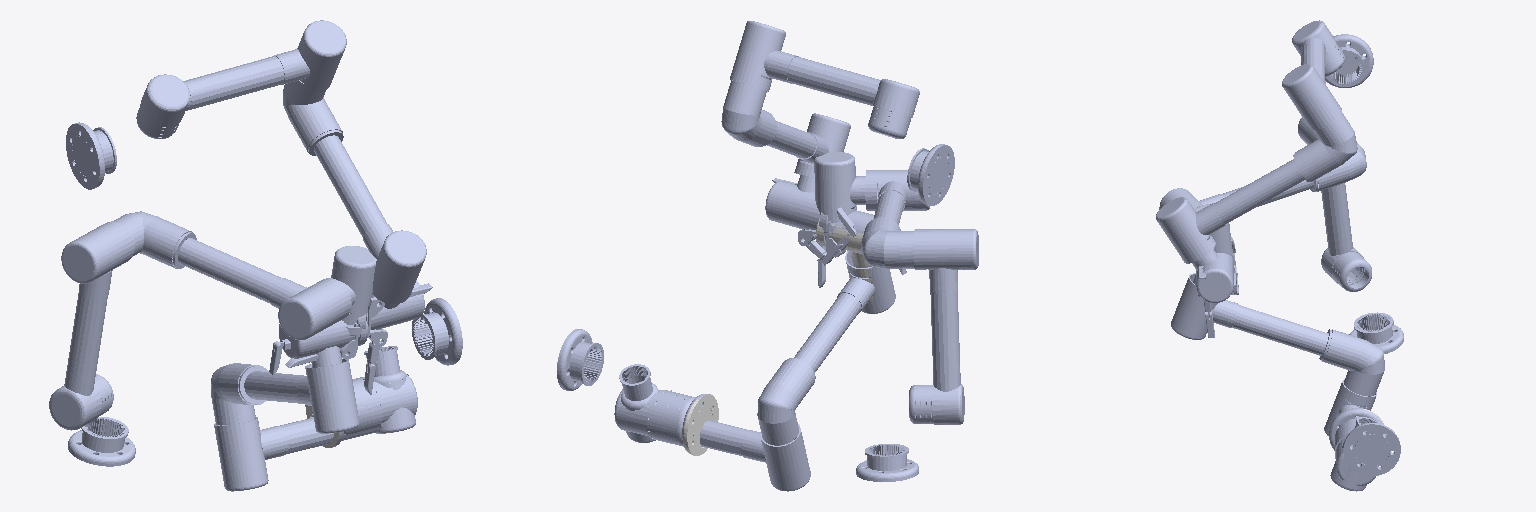
URDF robot description (UR5_Robotic_Arm):
<robot
  name="UR5_Robotic_Arm">
  <link
    name="Base_link">
    <inertial>
      <origin
        xyz="-0.270887268142801 -0.0738972155324684 -0.172493234263436"
        rpy="0 0 0" />
      <mass
        value="0.379348135746581" />
      <inertia
        ixx="2.39604793679125E-17"
        ixy="-6.49886930386399E-13"
        ixz="-9.96658512188979E-12"
        iyy="4.1633212125265E-06"
        iyz="-1.55576595719987E-18"
        izz="4.16332121250274E-06" />
    </inertial>
    <visual>
      <origin
        xyz="0 0 0"
        rpy="0 0 0" />
      <geometry>
        <mesh
          filename="package://UR5_Robotic_Arm/meshes/Base_link.STL" />
      </geometry>
      <material
        name="">
        <color
          rgba="0.956862745098039 0.956862745098039 0.956862745098039 1" />
      </material>
    </visual>
    <collision>
      <origin
        xyz="0 0 0"
        rpy="0 0 0" />
      <geometry>
        <mesh
          filename="package://UR5_Robotic_Arm/meshes/Base_link.STL" />
      </geometry>
    </collision>
  </link>
  <link
    name="BaseRotation_Link">
    <inertial>
      <origin
        xyz="-0.0022564 0.095116 5.86E-05"
        rpy="0 0 0" />
      <mass
        value="0.80837" />
      <inertia
        ixx="0.0022087"
        ixy="6.6229E-05"
        ixz="1.2101E-06"
        iyy="0.00031884"
        iyz="-1.6062E-06"
        izz="0.00196" />
    </inertial>
    <visual>
      <origin
        xyz="0 0 0"
        rpy="0 0 0" />
      <geometry>
        <mesh
          filename="package://UR5_Robotic_Arm/meshes/BaseRotation_Link.STL" />
      </geometry>
      <material
        name="">
        <color
          rgba="0.79216 0.81961 0.93333 1" />
      </material>
    </visual>
    <collision>
      <origin
        xyz="0 0 0"
        rpy="0 0 0" />
      <geometry>
        <mesh
          filename="package://UR5_Robotic_Arm/meshes/BaseRotation_Link.STL" />
      </geometry>
    </collision>
  </link>
  <joint
    name="BaseRotation"
    type="planar">
    <origin
      xyz="-0.2676 0.17247 -0.073961"
      rpy="-4.183E-15 1.2326 -1.5708" />
    <parent
      link="Base_link" />
    <child
      link="BaseRotation_Link" />
    <axis
      xyz="0 0 0" />
  </joint>
  <link
    name="Uppershoulder_Link">
    <inertial>
      <origin
        xyz="-0.000773668916831505 0.072240239397513 0.127941177085796"
        rpy="0 0 0" />
      <mass
        value="0.899469606096532" />
      <inertia
        ixx="0.0139331228501756"
        ixy="1.38557324481365E-05"
        ixz="4.74364368519462E-05"
        iyy="0.013083259216085"
        iyz="-0.00287375425252585"
        izz="0.000850315532979655" />
    </inertial>
    <visual>
      <origin
        xyz="0 0 0"
        rpy="0 0 0" />
      <geometry>
        <mesh
          filename="package://UR5_Robotic_Arm/meshes/Uppershoulder_Link.STL" />
      </geometry>
      <material
        name="">
        <color
          rgba="0.792156862745098 0.819607843137255 0.933333333333333 1" />
      </material>
    </visual>
    <collision>
      <origin
        xyz="0 0 0"
        rpy="0 0 0" />
      <geometry>
        <mesh
          filename="package://UR5_Robotic_Arm/meshes/Uppershoulder_Link.STL" />
      </geometry>
    </collision>
  </link>
  <joint
    name="Uppershoulder"
    type="planar">
    <origin
      xyz="-0.046297 0.11825 0.0032692"
      rpy="1.5708 1.5708 0" />
    <parent
      link="BaseRotation_Link" />
    <child
      link="Uppershoulder_Link" />
    <axis
      xyz="0 0 0" />
  </joint>
  <link
    name="Elbow_Link">
    <inertial>
      <origin
        xyz="0.0185167261391812 9.40691277243055E-05 -0.143963286359526"
        rpy="0 0 0" />
      <mass
        value="0.558778162540114" />
      <inertia
        ixx="0.012182017775996"
        ixy="-7.0049509001882E-07"
        ixz="0.000868458745743704"
        iyy="0.0122887079154552"
        iyz="7.10406869114521E-06"
        izz="0.000106700136891623" />
    </inertial>
    <visual>
      <origin
        xyz="0 0 0"
        rpy="0 0 0" />
      <geometry>
        <mesh
          filename="package://UR5_Robotic_Arm/meshes/Elbow_Link.STL" />
      </geometry>
      <material
        name="">
        <color
          rgba="0.792156862745098 0.819607843137255 0.933333333333333 1" />
      </material>
    </visual>
    <collision>
      <origin
        xyz="0 0 0"
        rpy="0 0 0" />
      <geometry>
        <mesh
          filename="package://UR5_Robotic_Arm/meshes/Elbow_Link.STL" />
      </geometry>
    </collision>
  </link>
  <joint
    name="Elbow"
    type="planar">
    <origin
      xyz="-0.097984 -0.049285 0.30646"
      rpy="1.5708 -1.115E-15 1.5708" />
    <parent
      link="Uppershoulder_Link" />
    <child
      link="Elbow_Link" />
    <axis
      xyz="0 0 0" />
  </joint>
  <link
    name="WristRotation_Link">
    <inertial>
      <origin
        xyz="0.031949 0.00019077 -0.023901"
        rpy="0 0 0" />
      <mass
        value="0.27507" />
      <inertia
        ixx="0"
        ixy="0"
        ixz="0"
        iyy="0"
        iyz="0"
        izz="0" />
    </inertial>
    <visual>
      <origin
        xyz="0 0 0"
        rpy="0 0 0" />
      <geometry>
        <mesh
          filename="package://UR5_Robotic_Arm/meshes/WristRotation_Link.STL" />
      </geometry>
      <material
        name="">
        <color
          rgba="0.79216 0.81961 0.93333 1" />
      </material>
    </visual>
    <collision>
      <origin
        xyz="0 0 0"
        rpy="0 0 0" />
      <geometry>
        <mesh
          filename="package://UR5_Robotic_Arm/meshes/WristRotation_Link.STL" />
      </geometry>
    </collision>
  </link>
  <joint
    name="WristRotation"
    type="planar">
    <origin
      xyz="-0.082941 0.00051143 -0.28587"
      rpy="1.5708 -1.079E-15 1.5708" />
    <parent
      link="Elbow_Link" />
    <child
      link="WristRotation_Link" />
    <axis
      xyz="0 0 0" />
  </joint>
  <link
    name="Wristmovefinger_Link">
    <inertial>
      <origin
        xyz="-0.000227501743169684 0.00978404672138886 -0.00344653170040773"
        rpy="0 0 0" />
      <mass
        value="0.239061263037987" />
      <inertia
        ixx="2.12041012340326E-05"
        ixy="4.63662427489203E-07"
        ixz="-1.80175798698507E-07"
        iyy="2.74146174906429E-06"
        iyz="7.02424180300697E-06"
        izz="1.84864258951012E-05" />
    </inertial>
    <visual>
      <origin
        xyz="0 0 0"
        rpy="0 0 0" />
      <geometry>
        <mesh
          filename="package://UR5_Robotic_Arm/meshes/Wristmovefinger_Link.STL" />
      </geometry>
      <material
        name="">
        <color
          rgba="0.956862745098039 0.956862745098039 0.956862745098039 1" />
      </material>
    </visual>
    <collision>
      <origin
        xyz="0 0 0"
        rpy="0 0 0" />
      <geometry>
        <mesh
          filename="package://UR5_Robotic_Arm/meshes/Wristmovefinger_Link.STL" />
      </geometry>
    </collision>
  </link>
  <joint
    name="Wristmovefinger"
    type="planar">
    <origin
      xyz="-0.055941 0.00051143 -0.028875"
      rpy="0 0.44305 1.5708" />
    <parent
      link="WristRotation_Link" />
    <child
      link="Wristmovefinger_Link" />
    <axis
      xyz="0 0 0" />
  </joint>
  <link
    name="Finger1_Link">
    <inertial>
      <origin
        xyz="-0.00669539945488903 0.024813356120548 0.0210627017857942"
        rpy="0 0 0" />
      <mass
        value="0.0462480591832373" />
      <inertia
        ixx="0"
        ixy="0"
        ixz="0"
        iyy="0"
        iyz="0"
        izz="0" />
    </inertial>
    <visual>
      <origin
        xyz="0 0 0"
        rpy="0 0 0" />
      <geometry>
        <mesh
          filename="package://UR5_Robotic_Arm/meshes/Finger1_Link.STL" />
      </geometry>
      <material
        name="">
        <color
          rgba="0.792156862745098 0.819607843137255 0.933333333333333 1" />
      </material>
    </visual>
    <collision>
      <origin
        xyz="0 0 0"
        rpy="0 0 0" />
      <geometry>
        <mesh
          filename="package://UR5_Robotic_Arm/meshes/Finger1_Link.STL" />
      </geometry>
    </collision>
  </link>
  <joint
    name="Finger1"
    type="planar">
    <origin
      xyz="-0.021323 0.0037394 -0.00925"
      rpy="-1.5708 9.992E-16 1.3805E-30" />
    <parent
      link="Wristmovefinger_Link" />
    <child
      link="Finger1_Link" />
    <axis
      xyz="0 0 0" />
  </joint>
  <link
    name="Finger1U_Link">
    <inertial>
      <origin
        xyz="0.00809681310403898 0.0175281753738267 0.0069975357483687"
        rpy="0 0 0" />
      <mass
        value="0.0236125519009478" />
      <inertia
        ixx="0"
        ixy="0"
        ixz="0"
        iyy="0"
        iyz="0"
        izz="0" />
    </inertial>
    <visual>
      <origin
        xyz="0 0 0"
        rpy="0 0 0" />
      <geometry>
        <mesh
          filename="package://UR5_Robotic_Arm/meshes/Finger1U_Link.STL" />
      </geometry>
      <material
        name="">
        <color
          rgba="0.792156862745098 0.819607843137255 0.933333333333333 1" />
      </material>
    </visual>
    <collision>
      <origin
        xyz="0 0 0"
        rpy="0 0 0" />
      <geometry>
        <mesh
          filename="package://UR5_Robotic_Arm/meshes/Finger1U_Link.STL" />
      </geometry>
    </collision>
  </link>
  <joint
    name="Finger1U"
    type="planar">
    <origin
      xyz="-0.0097424 0.032161 0.044"
      rpy="1.5708 1.3878E-15 1.5708" />
    <parent
      link="Finger1_Link" />
    <child
      link="Finger1U_Link" />
    <axis
      xyz="0 0 0" />
  </joint>
  <link
    name="Finger1E_Link">
    <inertial>
      <origin
        xyz="0.00569746752193723 0.0253173418260016 0.00749667553332828"
        rpy="0 0 0" />
      <mass
        value="0.0203702073457965" />
      <inertia
        ixx="0"
        ixy="0"
        ixz="0"
        iyy="0"
        iyz="0"
        izz="0" />
    </inertial>
    <visual>
      <origin
        xyz="0 0 0"
        rpy="0 0 0" />
      <geometry>
        <mesh
          filename="package://UR5_Robotic_Arm/meshes/Finger1E_Link.STL" />
      </geometry>
      <material
        name="">
        <color
          rgba="0.792156862745098 0.819607843137255 0.933333333333333 1" />
      </material>
    </visual>
    <collision>
      <origin
        xyz="0 0 0"
        rpy="0 0 0" />
      <geometry>
        <mesh
          filename="package://UR5_Robotic_Arm/meshes/Finger1E_Link.STL" />
      </geometry>
    </collision>
  </link>
  <joint
    name="Einger1E"
    type="planar">
    <origin
      xyz="0.013499 0.046894 0.014674"
      rpy="-3.1416 3.1641E-15 3.124" />
    <parent
      link="Finger1U_Link" />
    <child
      link="Finger1E_Link" />
    <axis
      xyz="0 0 0" />
  </joint>
  <link
    name="Finger2_Link">
    <inertial>
      <origin
        xyz="-0.00669539945488905 0.024813356120548 0.0210627017857942"
        rpy="0 0 0" />
      <mass
        value="0.0462480591832373" />
      <inertia
        ixx="0"
        ixy="0"
        ixz="0"
        iyy="0"
        iyz="0"
        izz="0" />
    </inertial>
    <visual>
      <origin
        xyz="0 0 0"
        rpy="0 0 0" />
      <geometry>
        <mesh
          filename="package://UR5_Robotic_Arm/meshes/Finger2_Link.STL" />
      </geometry>
      <material
        name="">
        <color
          rgba="0.792156862745098 0.819607843137255 0.933333333333333 1" />
      </material>
    </visual>
    <collision>
      <origin
        xyz="0 0 0"
        rpy="0 0 0" />
      <geometry>
        <mesh
          filename="package://UR5_Robotic_Arm/meshes/Finger2_Link.STL" />
      </geometry>
    </collision>
  </link>
  <joint
    name="Finger2"
    type="planar">
    <origin
      xyz="0.044079 -0.090108 -0.051068"
      rpy="1.5532 1.5708 0" />
    <parent
      link="Finger1E_Link" />
    <child
      link="Finger2_Link" />
    <axis
      xyz="0 0 0" />
  </joint>
  <link
    name="Finger2U_Link">
    <inertial>
      <origin
        xyz="0.00809681590775475 0.0175281726033557 0.00699753568724798"
        rpy="0 0 0" />
      <mass
        value="0.0236125465097113" />
      <inertia
        ixx="0"
        ixy="0"
        ixz="0"
        iyy="0"
        iyz="0"
        izz="0" />
    </inertial>
    <visual>
      <origin
        xyz="0 0 0"
        rpy="0 0 0" />
      <geometry>
        <mesh
          filename="package://UR5_Robotic_Arm/meshes/Finger2U_Link.STL" />
      </geometry>
      <material
        name="">
        <color
          rgba="0.792156862745098 0.819607843137255 0.933333333333333 1" />
      </material>
    </visual>
    <collision>
      <origin
        xyz="0 0 0"
        rpy="0 0 0" />
      <geometry>
        <mesh
          filename="package://UR5_Robotic_Arm/meshes/Finger2U_Link.STL" />
      </geometry>
    </collision>
  </link>
  <joint
    name="Finger2U"
    type="planar">
    <origin
      xyz="-0.0097424 0.026484 0.032237"
      rpy="1.5708 -0.86879 1.5708" />
    <parent
      link="Finger2_Link" />
    <child
      link="Finger2U_Link" />
    <axis
      xyz="0 0 0" />
  </joint>
  <link
    name="Finger2E_Link">
    <inertial>
      <origin
        xyz="0.00569748492363509 0.0253173343014481 0.00749668168642401"
        rpy="0 0 0" />
      <mass
        value="0.0203701535802087" />
      <inertia
        ixx="0"
        ixy="0"
        ixz="0"
        iyy="0"
        iyz="0"
        izz="0" />
    </inertial>
    <visual>
      <origin
        xyz="0 0 0"
        rpy="0 0 0" />
      <geometry>
        <mesh
          filename="package://UR5_Robotic_Arm/meshes/Finger2E_Link.STL" />
      </geometry>
      <material
        name="">
        <color
          rgba="0.792156862745098 0.819607843137255 0.933333333333333 1" />
      </material>
    </visual>
    <collision>
      <origin
        xyz="0 0 0"
        rpy="0 0 0" />
      <geometry>
        <mesh
          filename="package://UR5_Robotic_Arm/meshes/Finger2E_Link.STL" />
      </geometry>
    </collision>
  </link>
  <joint
    name="Finger2E"
    type="planar">
    <origin
      xyz="0.0076058 0.052999 0.017174"
      rpy="3.1416 -1.1102E-15 -1.5884" />
    <parent
      link="Finger2U_Link" />
    <child
      link="Finger2E_Link" />
    <axis
      xyz="0 0 0" />
  </joint>
  <link
    name="Finger3_Link">
    <inertial>
      <origin
        xyz="0.0345349331112283 0.0710979658113745 0.0187353340144203"
        rpy="0 0 0" />
      <mass
        value="0.0462480591832372" />
      <inertia
        ixx="0"
        ixy="0"
        ixz="0"
        iyy="0"
        iyz="0"
        izz="0" />
    </inertial>
    <visual>
      <origin
        xyz="0 0 0"
        rpy="0 0 0" />
      <geometry>
        <mesh
          filename="package://UR5_Robotic_Arm/meshes/Finger3_Link.STL" />
      </geometry>
      <material
        name="">
        <color
          rgba="0.792156862745098 0.819607843137255 0.933333333333333 1" />
      </material>
    </visual>
    <collision>
      <origin
        xyz="0 0 0"
        rpy="0 0 0" />
      <geometry>
        <mesh
          filename="package://UR5_Robotic_Arm/meshes/Finger3_Link.STL" />
      </geometry>
    </collision>
  </link>
  <joint
    name="Finger3"
    type="planar">
    <origin
      xyz="0.054455 0.04837 0.0074317"
      rpy="2.2904 -1.5708 0" />
    <parent
      link="Finger2E_Link" />
    <child
      link="Finger3_Link" />
    <axis
      xyz="0 0 0" />
  </joint>
  <link
    name="Finger3U_Link">
    <inertial>
      <origin
        xyz="0.008096815498209 0.0175281723880535 0.00699753578973197"
        rpy="0 0 0" />
      <mass
        value="0.0236125476154434" />
      <inertia
        ixx="0"
        ixy="0"
        ixz="0"
        iyy="0"
        iyz="0"
        izz="0" />
    </inertial>
    <visual>
      <origin
        xyz="0 0 0"
        rpy="0 0 0" />
      <geometry>
        <mesh
          filename="package://UR5_Robotic_Arm/meshes/Finger3U_Link.STL" />
      </geometry>
      <material
        name="">
        <color
          rgba="0.792156862745098 0.819607843137255 0.933333333333333 1" />
      </material>
    </visual>
    <collision>
      <origin
        xyz="0 0 0"
        rpy="0 0 0" />
      <geometry>
        <mesh
          filename="package://UR5_Robotic_Arm/meshes/Finger3U_Link.STL" />
      </geometry>
    </collision>
  </link>
  <joint
    name="Finger3U"
    type="planar">
    <origin
      xyz="0.030238 0.10028 0.039511"
      rpy="2.1073E-08 1.5708 0" />
    <parent
      link="Finger3_Link" />
    <child
      link="Finger3U_Link" />
    <axis
      xyz="0 0 0" />
  </joint>
  <link
    name="Finger3E_Link">
    <inertial>
      <origin
        xyz="0.00569746752193724 0.0253173418260016 0.00749667553332833"
        rpy="0 0 0" />
      <mass
        value="0.0203702073457965" />
      <inertia
        ixx="0"
        ixy="0"
        ixz="0"
        iyy="0"
        iyz="0"
        izz="0" />
    </inertial>
    <visual>
      <origin
        xyz="0 0 0"
        rpy="0 0 0" />
      <geometry>
        <mesh
          filename="package://UR5_Robotic_Arm/meshes/Finger3E_Link.STL" />
      </geometry>
      <material
        name="">
        <color
          rgba="0.792156862745098 0.819607843137255 0.933333333333333 1" />
      </material>
    </visual>
    <collision>
      <origin
        xyz="0 0 0"
        rpy="0 0 0" />
      <geometry>
        <mesh
          filename="package://UR5_Robotic_Arm/meshes/Finger3E_Link.STL" />
      </geometry>
    </collision>
  </link>
  <joint
    name="Finger3E"
    type="planar">
    <origin
      xyz="0.0072058 0.053399 0.014674"
      rpy="-3.1416 -5.5511E-16 -1.5884" />
    <parent
      link="Finger3U_Link" />
    <child
      link="Finger3E_Link" />
    <axis
      xyz="0 0 0" />
  </joint>
</robot>

--- What the picture shows (computed from the rendered views, not written in the file) ---
The picture shows the robot from 3 angles, left to right: view 1: azimuth 30°, elevation 25°; view 2: azimuth 150°, elevation 25°; view 3: azimuth 270°, elevation 25°; orthographic projection.
Model UR5_Robotic_Arm with 15 links and 14 joints (14 planar), rooted at Base_link, posed all joints at 0.
Visible links, largest first — view 1: Finger3_Link, Finger1E_Link, Finger2_Link, Elbow_Link, Finger2U_Link, Finger2E_Link, Finger3U_Link, Finger3E_Link, BaseRotation_Link; view 2: Finger2U_Link, Finger3_Link, Finger1E_Link, Finger3E_Link, BaseRotation_Link, Finger2E_Link, Finger1U_Link, Base_link, Finger3U_Link, Finger2_Link, Wristmovefinger_Link; view 3: Finger2E_Link, Finger1_Link, Finger3E_Link, Elbow_Link, Finger3U_Link, Finger2_Link, Finger2U_Link, BaseRotation_Link, Finger1U_Link, Finger3_Link, Finger1E_Link.
Boxes of the visible links, x1,y1,x2,y2 form: Finger3_Link: (49,211,383,466); Finger1E_Link: (211,283,457,491); Finger2_Link: (70,20,426,367); Elbow_Link: (218,300,462,489); Finger2U_Link: (66,22,425,360); Finger2E_Link: (70,23,426,367); Finger3U_Link: (77,212,387,461); Finger3E_Link: (63,232,387,466); BaseRotation_Link: (310,346,417,447); Finger2U_Link: (726,22,954,249); Finger3_Link: (799,158,978,481); Finger1E_Link: (557,178,895,490); Finger3E_Link: (798,152,977,479); BaseRotation_Link: (614,364,713,450); Finger2E_Link: (721,21,950,256); Finger1U_Link: (557,243,881,490); Base_link: (683,394,718,455); Finger3U_Link: (806,159,939,476); Finger2_Link: (752,21,919,257); Wristmovefinger_Link: (816,220,875,309); Finger2E_Link: (1156,21,1373,302); Finger1_Link: (1213,268,1400,490); Finger3E_Link: (1169,135,1402,353); Elbow_Link: (1171,278,1394,485); Finger3U_Link: (1159,118,1402,347); Finger2_Link: (1156,20,1359,301); Finger2U_Link: (1156,26,1373,283); BaseRotation_Link: (1329,408,1382,486); Finger1U_Link: (1185,266,1399,490); Finger3_Link: (1160,117,1403,346); Finger1E_Link: (1189,237,1400,447).
Bounding box of the posed robot: 0.8309 × 0.5203 × 0.9146 m (x, y, z).
Meshes: 15 distinct files referenced, 15 mesh visuals loaded (15 binary STL).